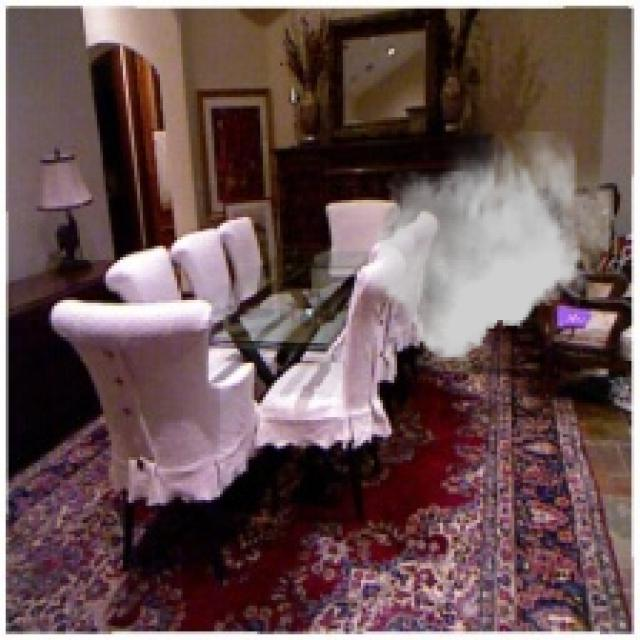smoke: (374, 131, 614, 360)
